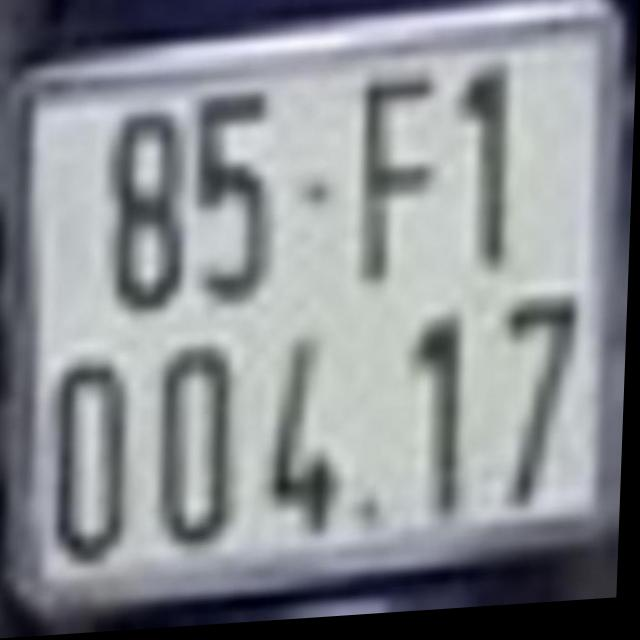0: (159, 333, 241, 552), (54, 358, 133, 562)
1: (412, 309, 477, 526), (454, 61, 518, 275)
4: (264, 338, 350, 540)
5: (190, 83, 281, 299)
7: (504, 303, 578, 514)
8: (113, 111, 191, 306)
F: (353, 75, 441, 293)
